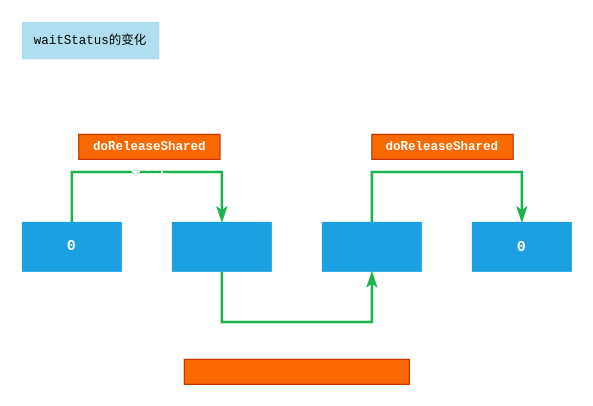
The diagram is 593 pixels wide and 406 high, and some of its shapes have lost their labels. The shapes that lost their labels are listed below. From the top down, each one's box as (x1, y1, x2, y2) in pixels, then its label:
(171, 221, 271, 271): PROPAGATE
(321, 221, 421, 271): SIGNAL
(183, 358, 409, 384): shouldParkAfterFailedAcquire
